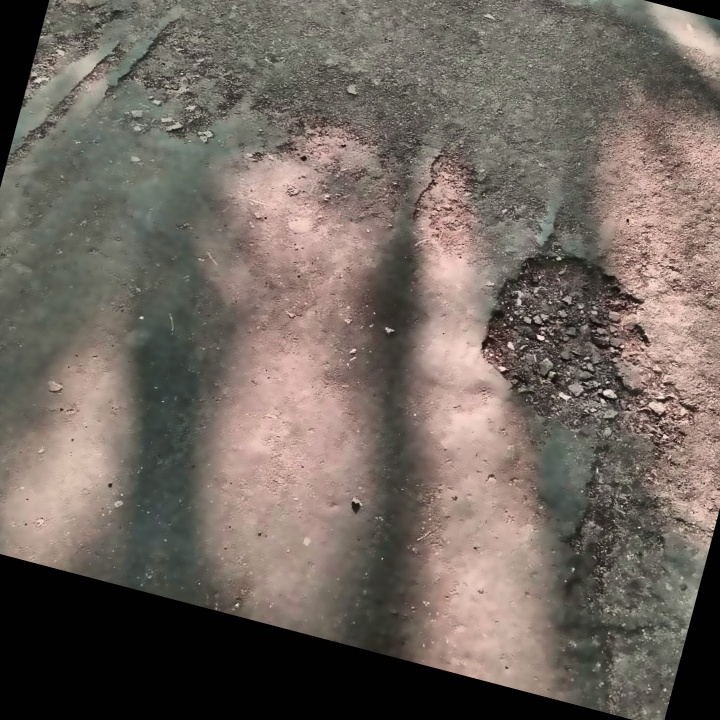pothole: (459, 230, 691, 438)
